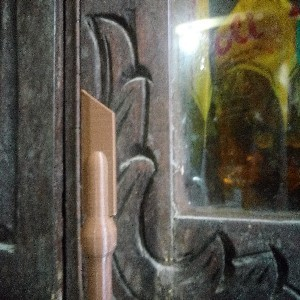cutter: (79, 88, 117, 300)
